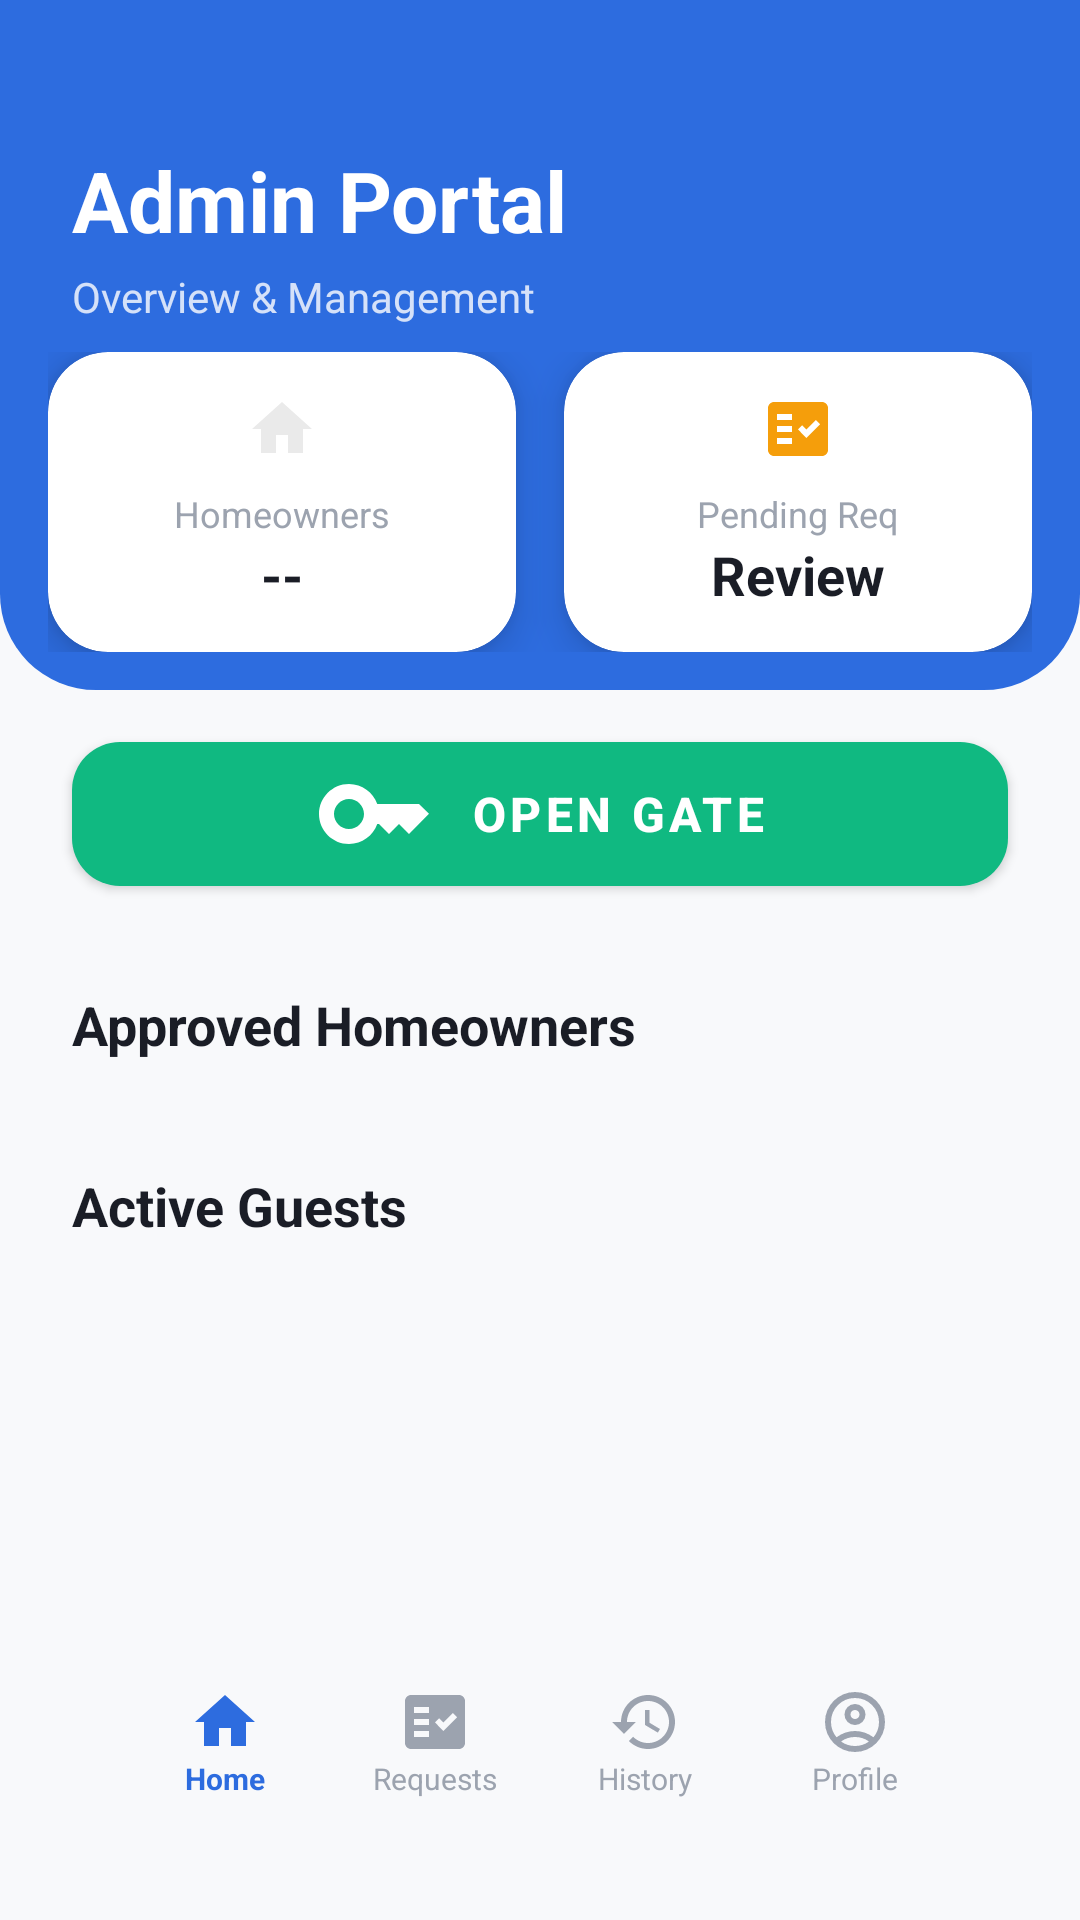

Where icons sit on this 1080 x 1920 app screen, as box=[x1, y1, x2, y2]:
fact check: box=[768, 402, 828, 456], box=[405, 1695, 465, 1749]
